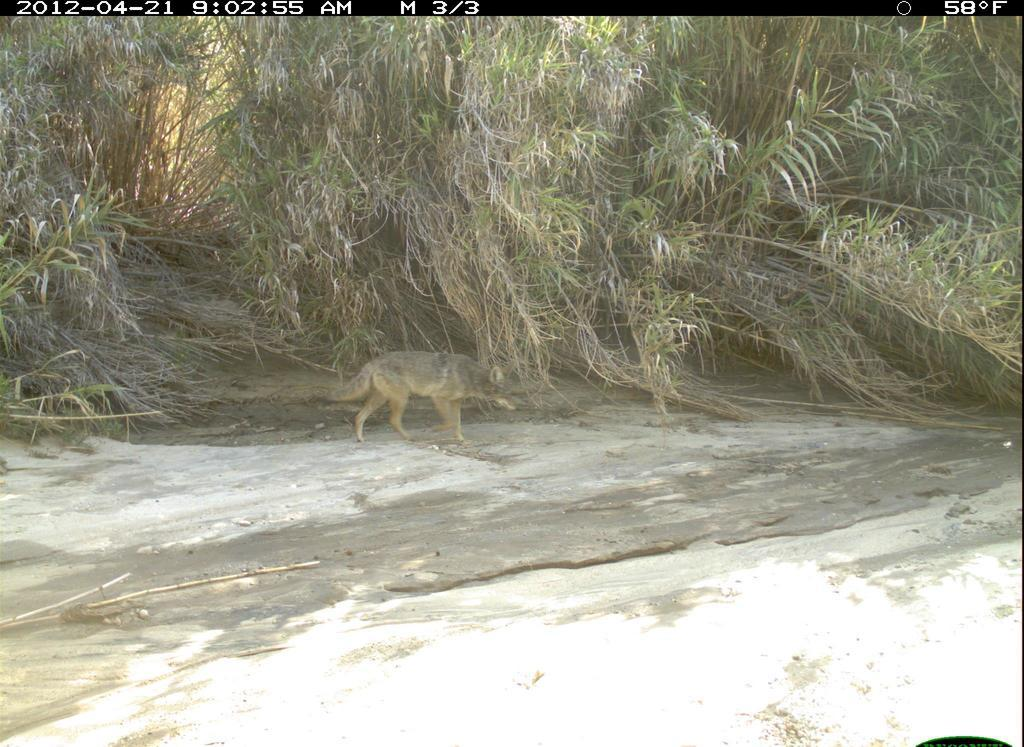coyote: (324, 350, 523, 450)
